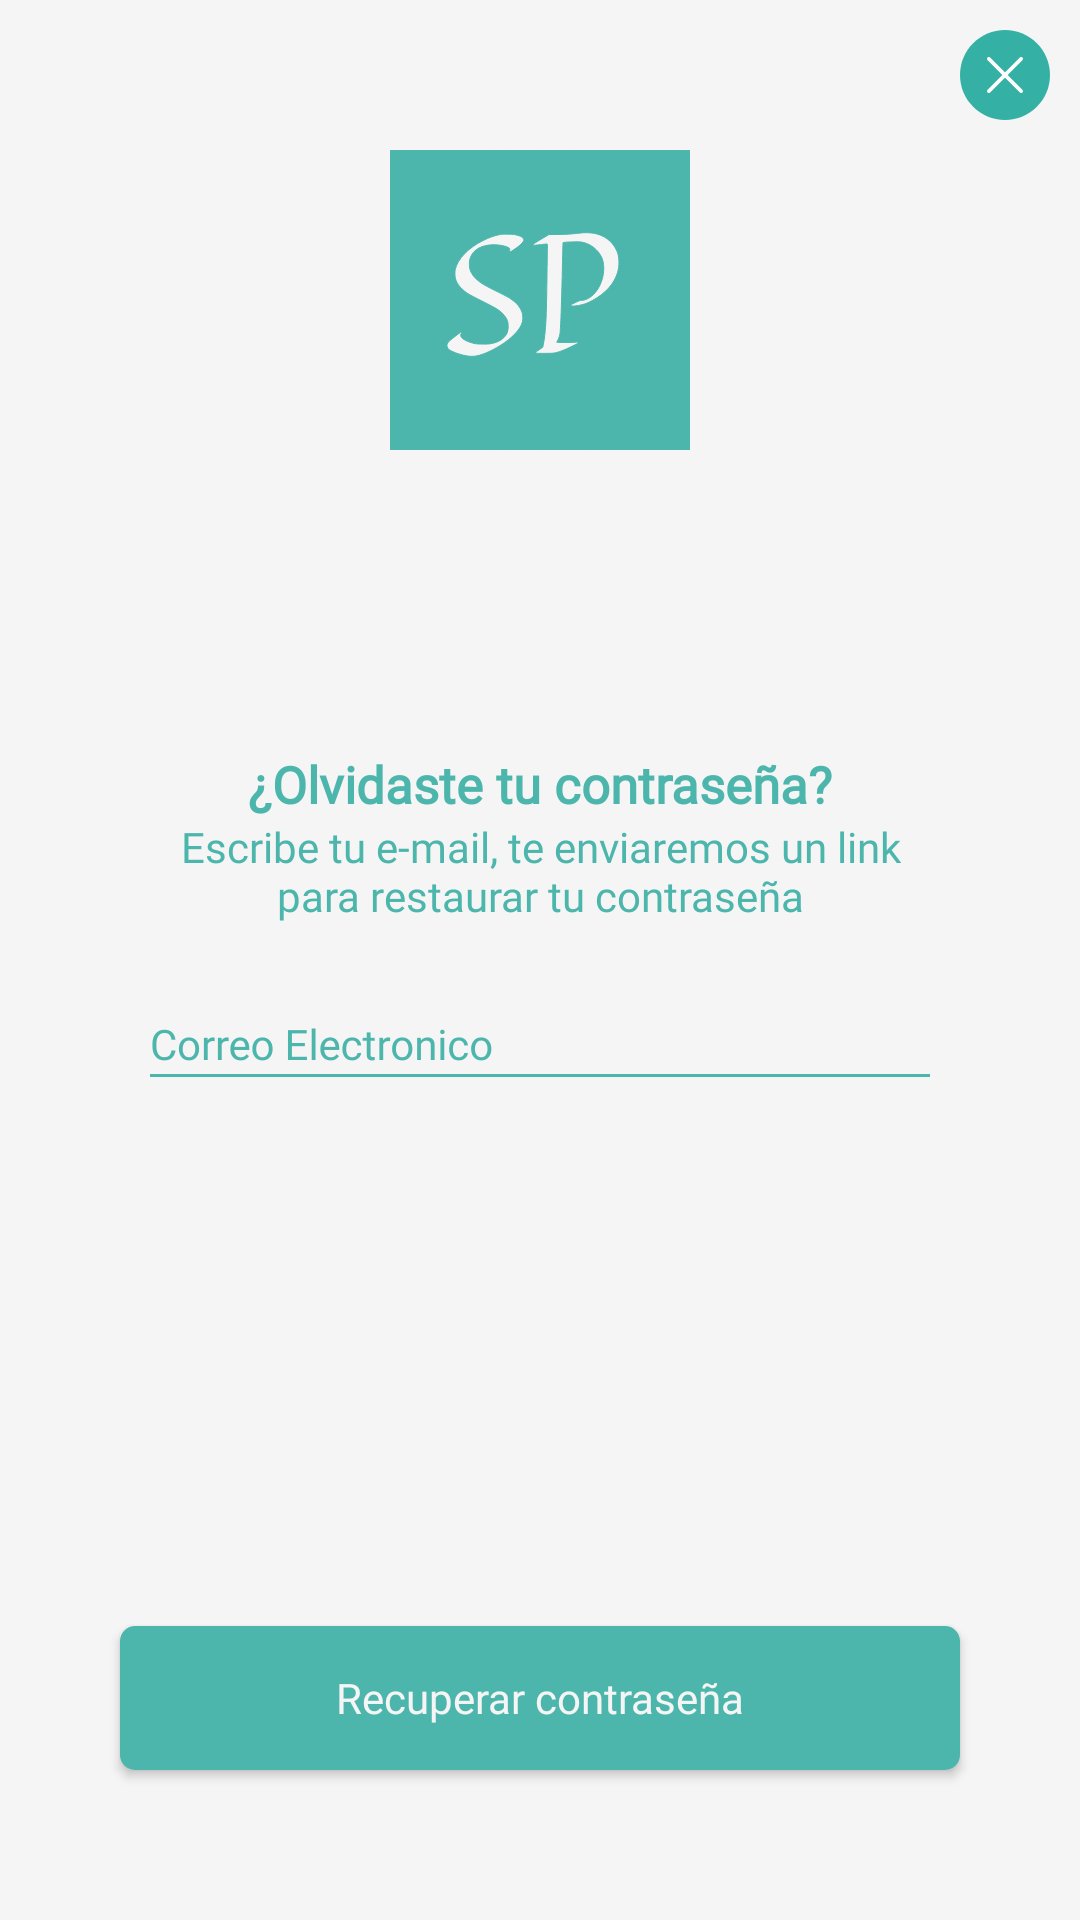

Locate icon controls on the screen. Image size 1080px×1920px, boxes as (x1, y1, x2, y2).
close: (960, 30, 1050, 120)
